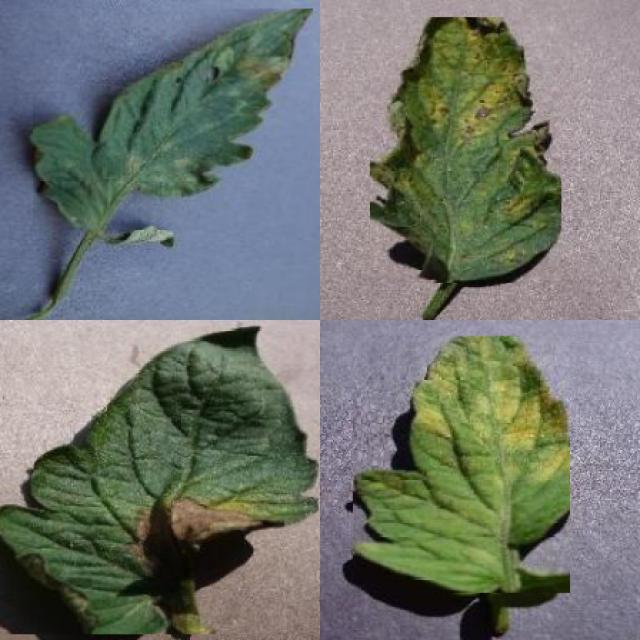Late Blight: (0, 322, 319, 634)
Leaf Mold: (33, 9, 313, 230), (353, 336, 570, 594)
Septoria: (370, 17, 561, 283)
